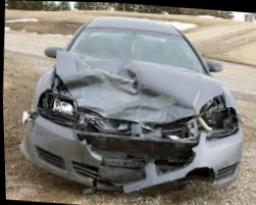Bonnet: (52, 48, 225, 137)
Bumper: (19, 116, 241, 187)
Light: (40, 90, 78, 127), (198, 106, 237, 135)
